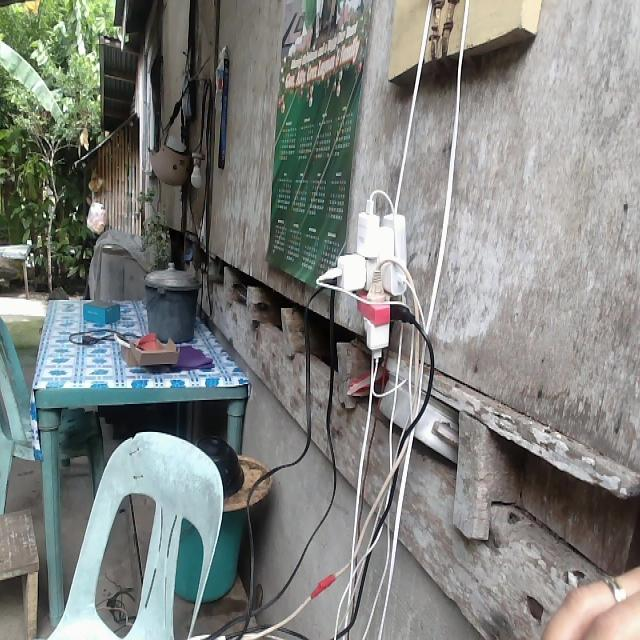-: (315, 195, 419, 366)
